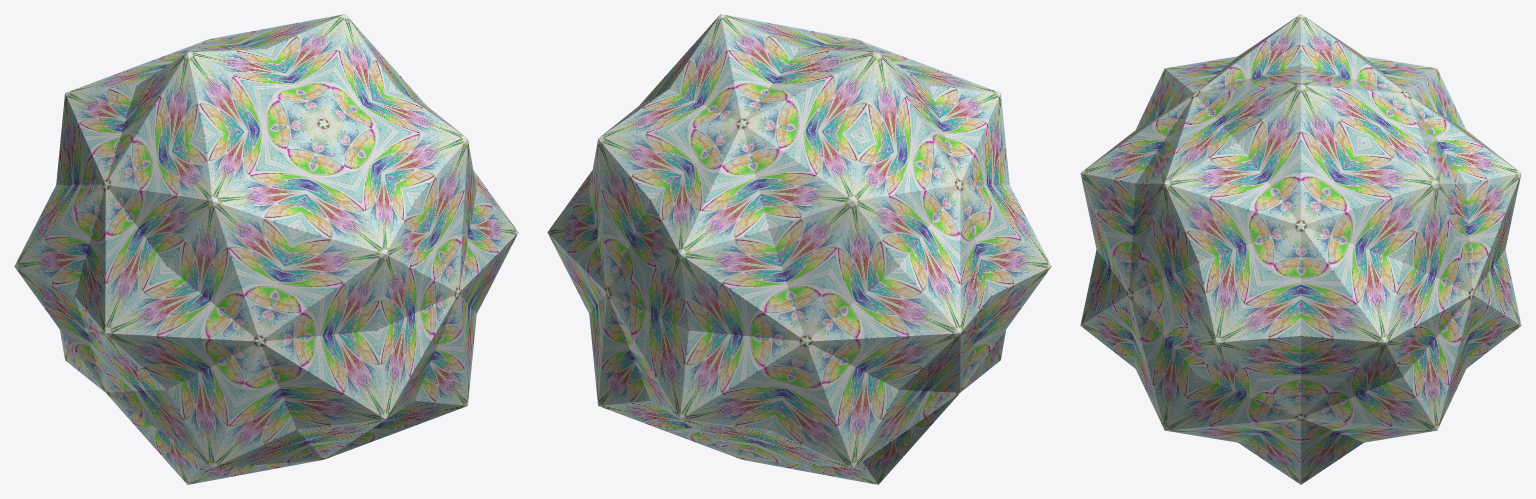
File: SmallIcosacronicHexecontahedron8.obj
3 views of the same model, side by side, from view 1: azimuth 30°, elevation 25°; view 2: azimuth 150°, elevation 25°; view 3: azimuth 270°, elevation 25° (orthographic). The views are drawn at different scales.
Size of the model in its own units: 3.62 by 3.62 by 3.62.
1 material, 1 textured.
